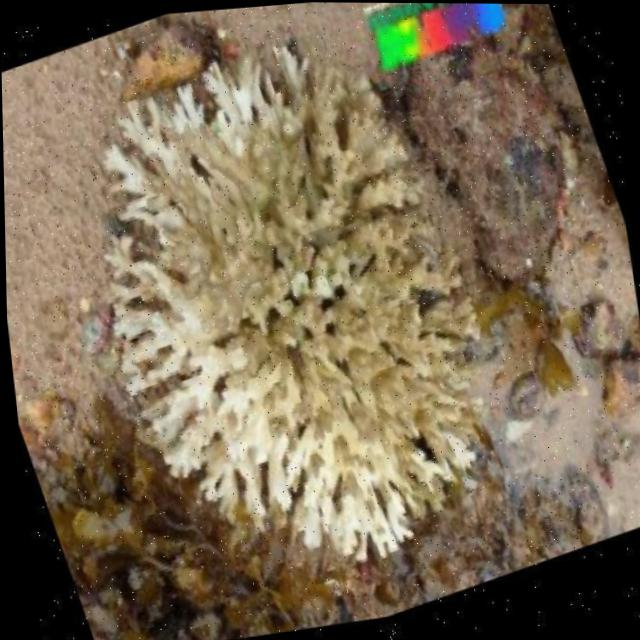Bleached Coral: (91, 50, 467, 576)
